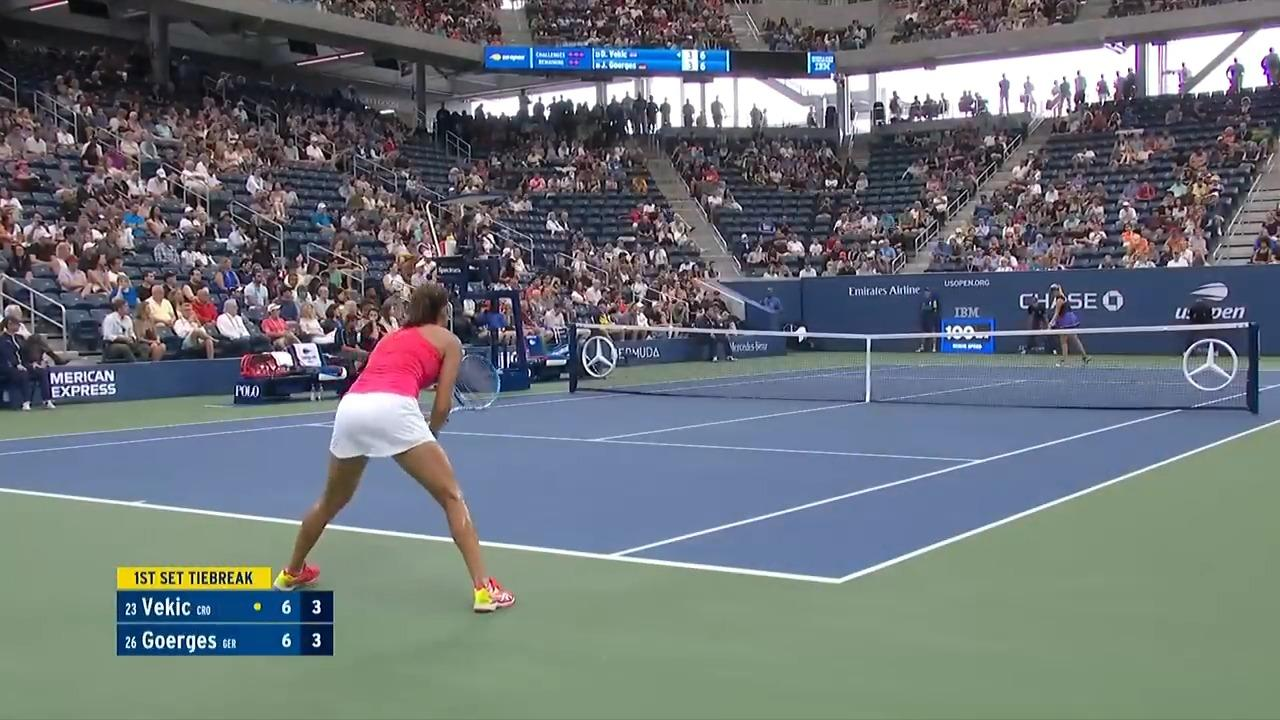tennis racket: (452, 352, 500, 411)
